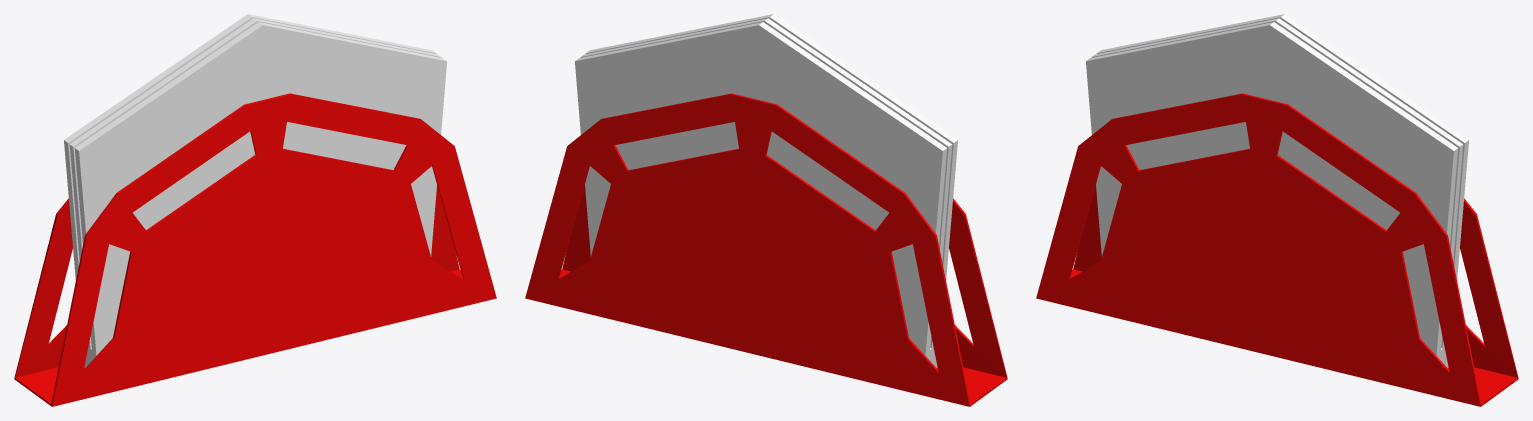
Rendered from Servilletero.fbx.
3 renders of one model, left to right at view 1: azimuth 30°, elevation 25°; view 2: azimuth 150°, elevation 25°; view 3: azimuth 330°, elevation 25°, orthographic.
Parts seen in each view (by area): view 1: Servillero; view 2: Servillero; view 3: Servillero.
Boxes of the visible parts, x1,y1,x2,y2 form: Servillero: [14, 14, 496, 406]; Servillero: [525, 14, 1007, 406]; Servillero: [1036, 14, 1518, 406].
Size of the model in its own units: 33.75 by 23.15 by 5.
